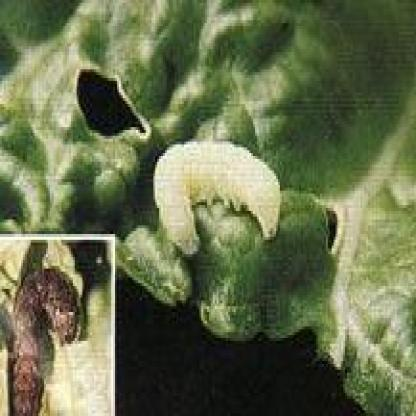armyworm: (150, 134, 287, 274), (7, 266, 84, 416)
